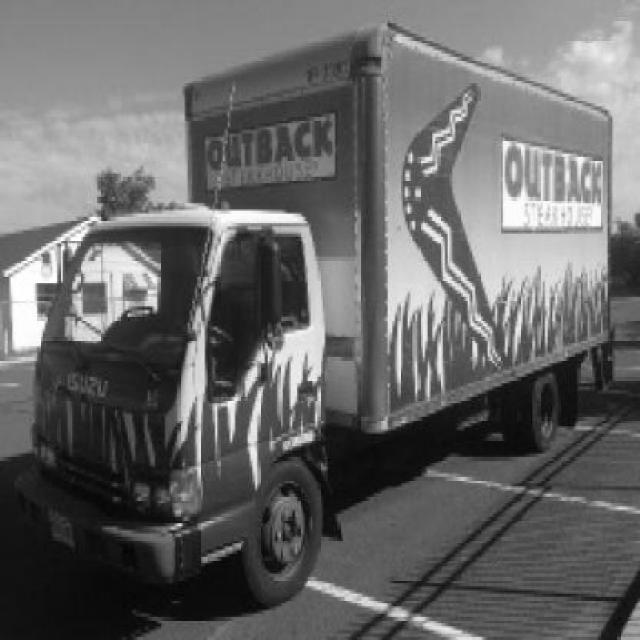Box Truck: (16, 21, 618, 611)
